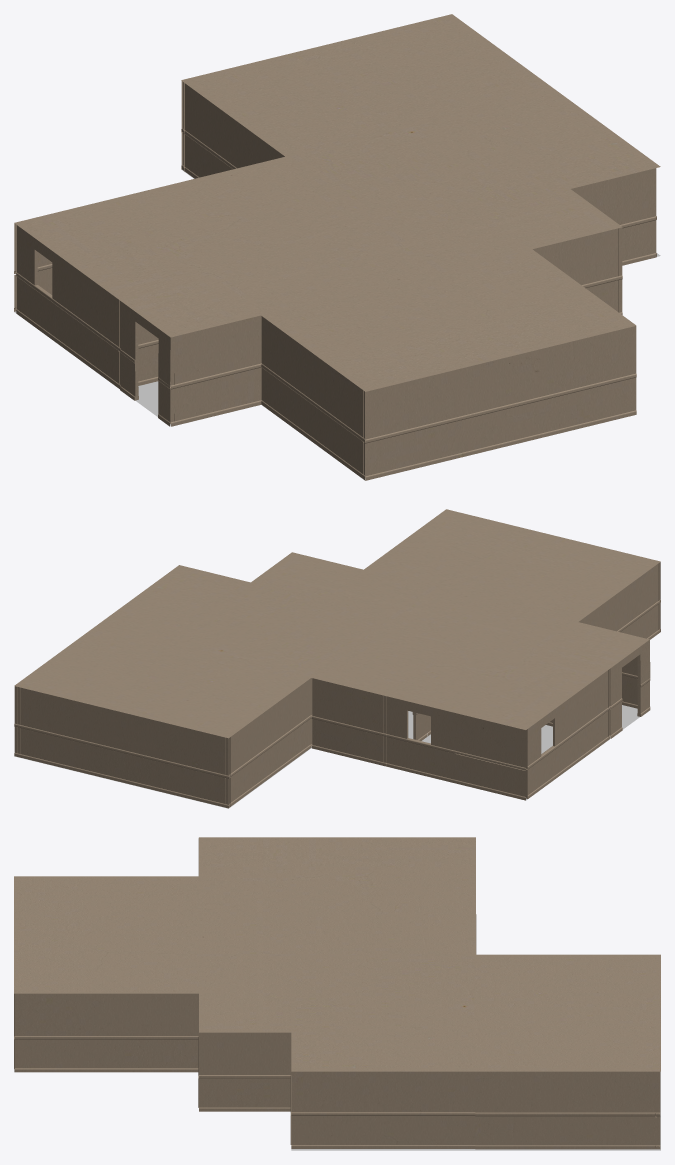
The model's file is level01.fbx.
The picture shows the model from 3 angles, top to bottom: view 1: azimuth 30°, elevation 25°; view 2: azimuth 150°, elevation 25°; view 3: azimuth 270°, elevation 25°; orthographic projection. The views are drawn at different scales.
Parts seen in each view (by area): view 1: building 2; view 2: building 2; view 3: building 2.
Part boxes in pixels (bbox=[...]): building 2: bbox=[14, 14, 660, 480]; building 2: bbox=[14, 509, 660, 808]; building 2: bbox=[14, 837, 660, 1150].
Size of the model in its own units: 1917 by 300 by 2233.
